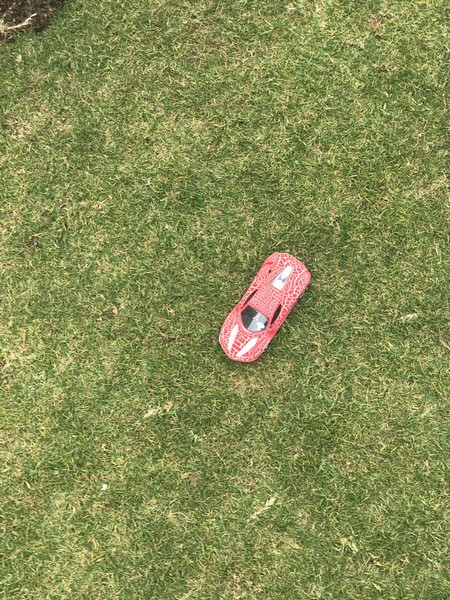RC: (217, 251, 312, 363)
